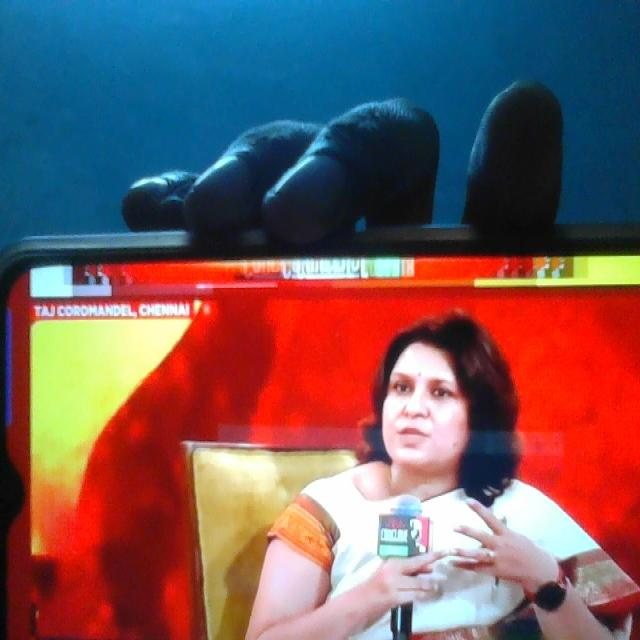fake: (368, 287, 482, 501)
